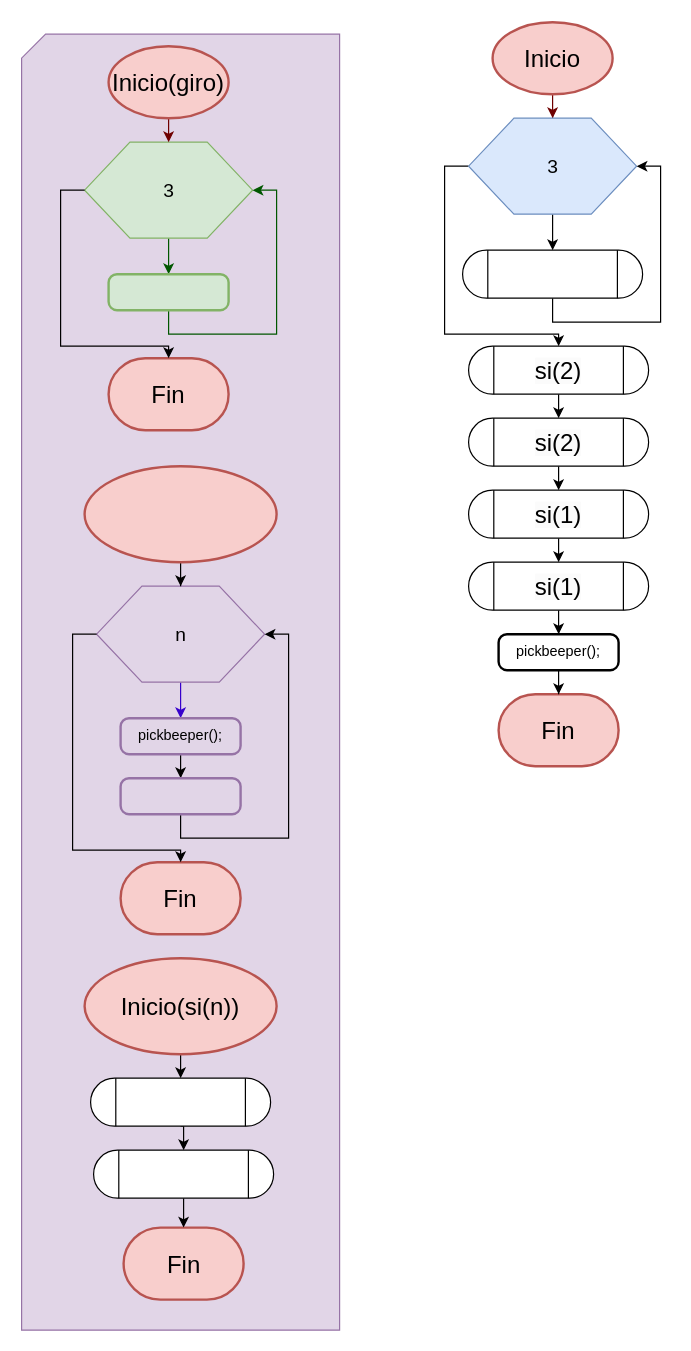
Image size: 691x1351. Some labels were removed from this diagram. The shapes that lost their labels are listed below. From the top down, each one's centre as x and y in pixels, then its label:
At point (168, 291): "turnleft();".
At point (552, 273): "si(3)".
At point (180, 513): "Inicio(avanza(n))".
At point (180, 795): "move();".
At point (180, 1101): "avanza(n)".
At point (183, 1173): "giro()".
